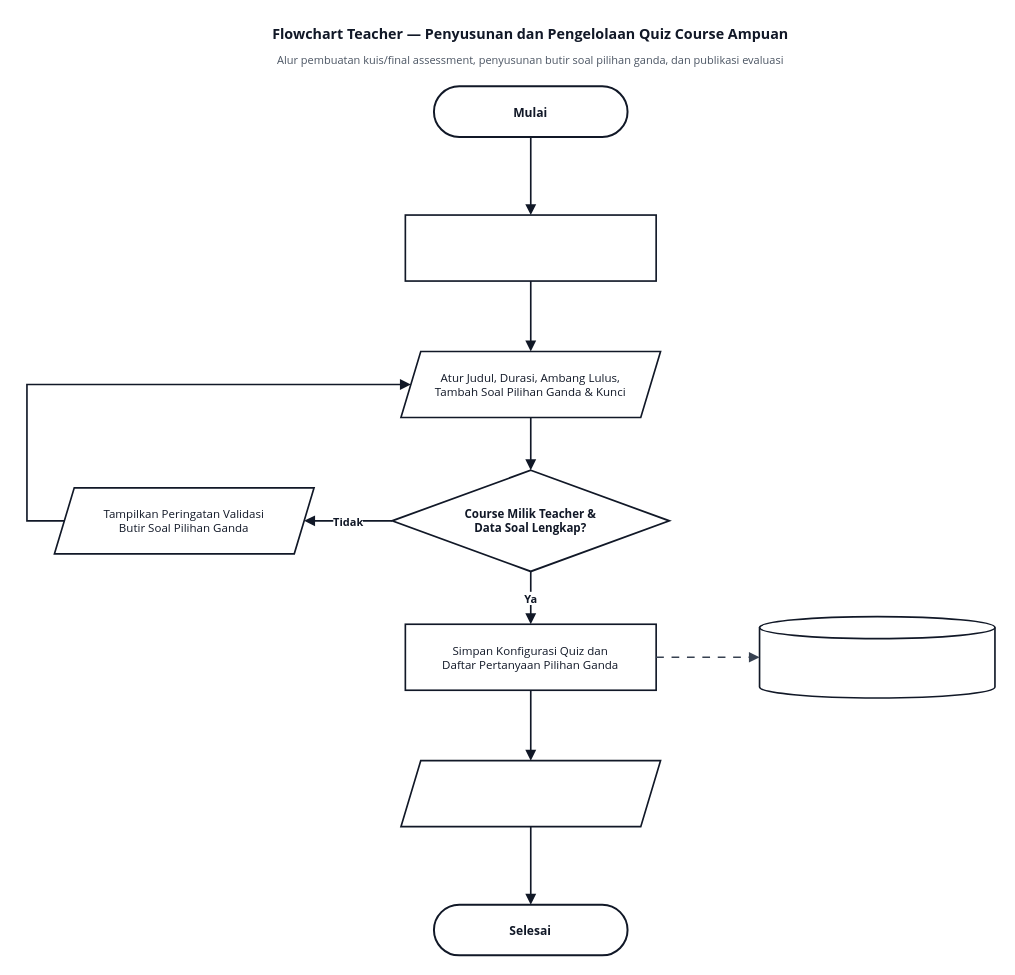
This 1015x975 diagram has some shape labels left out. Each missing label, with the centre of its shape:
Buka Menu Kelola Quiz & Pilih Course Ampuan: point 530,247
MySQL: course_quizzes & course_quiz_questions: point 876,656
Tampilkan Status Quiz Terbit / Draft pada Course Ampuan: point 530,793
